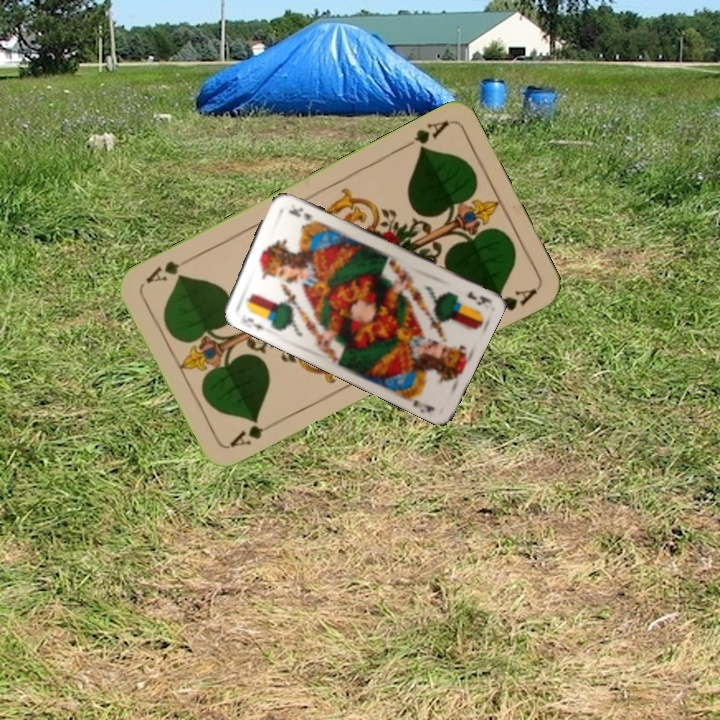EK: (237, 309, 268, 333), (463, 287, 492, 307)
GA: (397, 117, 452, 155), (225, 416, 280, 451)
